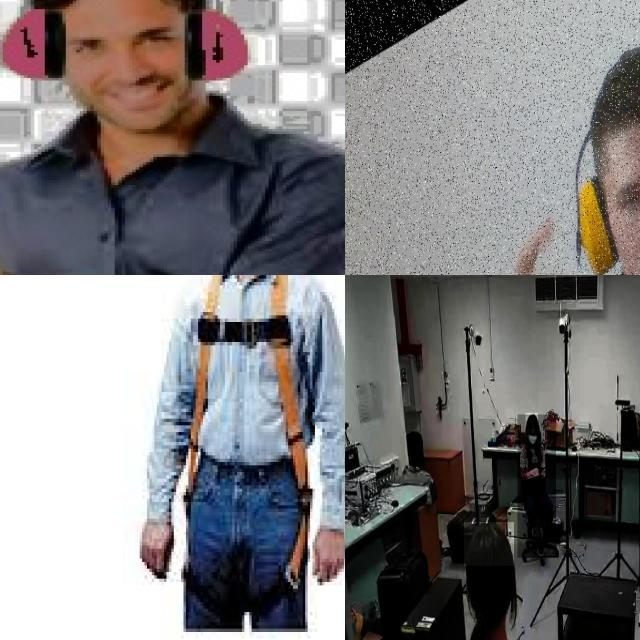Ear-protection: (548, 2, 640, 275), (0, 0, 260, 85)
Harness: (184, 275, 312, 622)
hand_glove: (526, 429, 540, 451)
hand_noglove: (527, 466, 539, 478)
head_nohelmet: (464, 522, 514, 567), (526, 413, 538, 427)
person: (440, 532, 561, 640), (518, 414, 556, 558)
